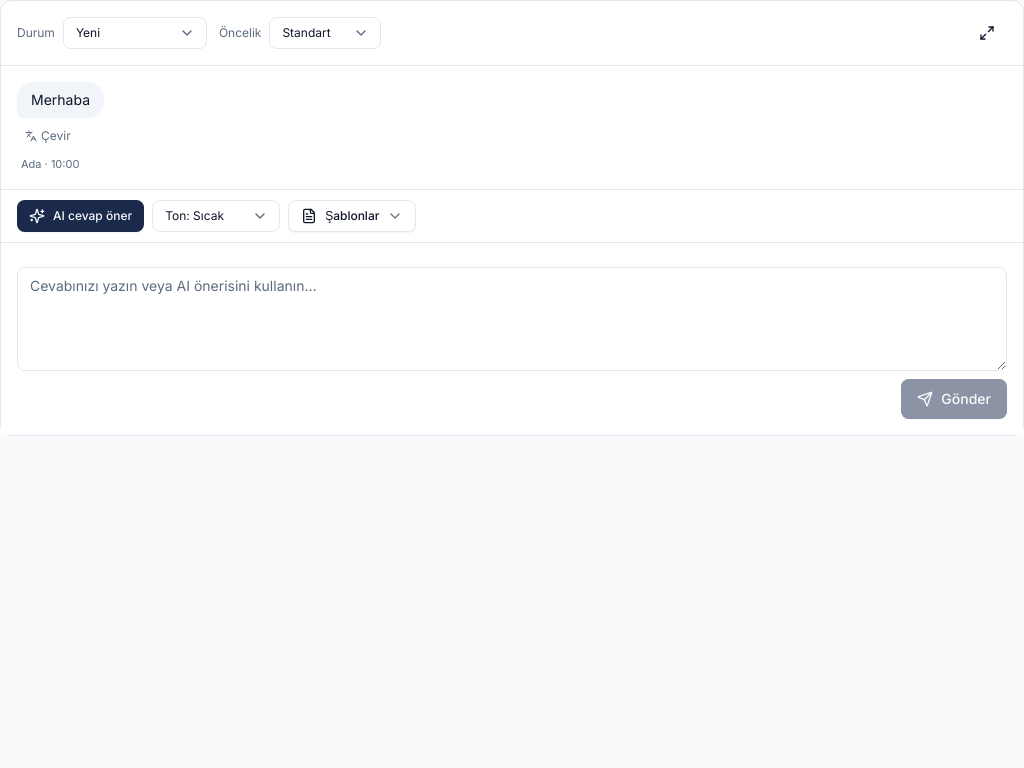
şablon seçici — sayfalı liste + seçilince tam metin › 🚨 liste yalnız önizleme gösterir; seçim TAM metni ayrı istekle alır ve değişkenleri doldurur
Click the button "Şablonlar".
click(352, 216)  # box top-left (288, 200), bottom-right (416, 232)
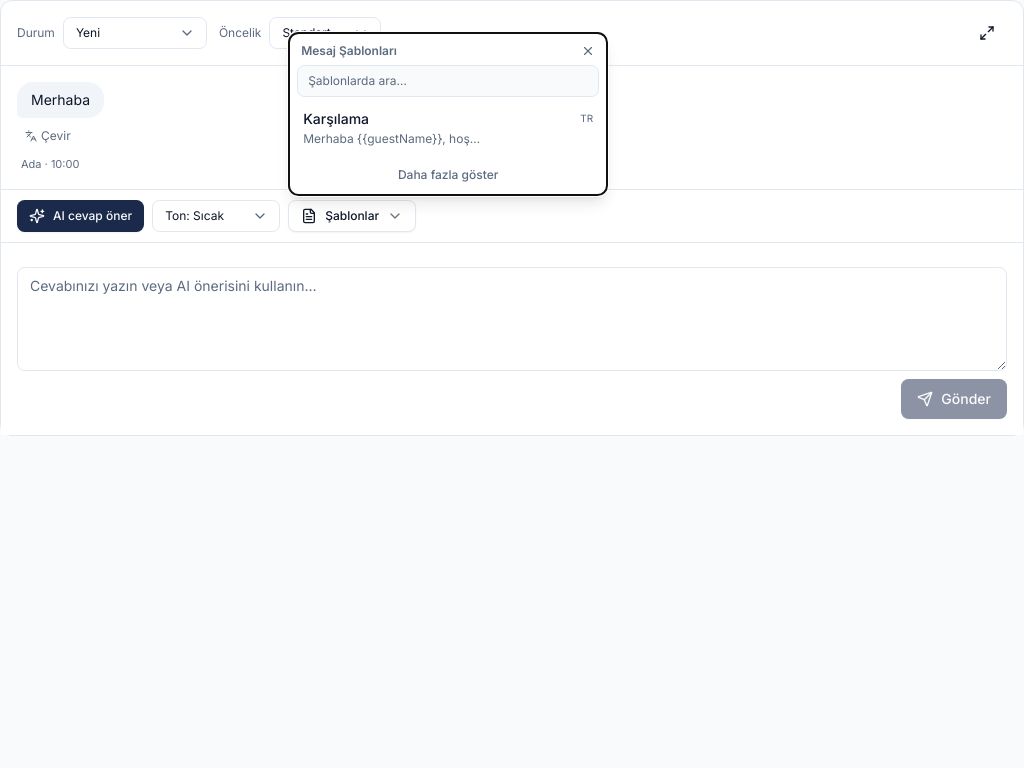
Expected: the dialog shows "Merhaba {{guestName}}, hoş…"
Click the button "Karşılama tr Merhaba {{guestName}}, hoş…".
click(448, 128)  # box top-left (293, 100), bottom-right (603, 154)
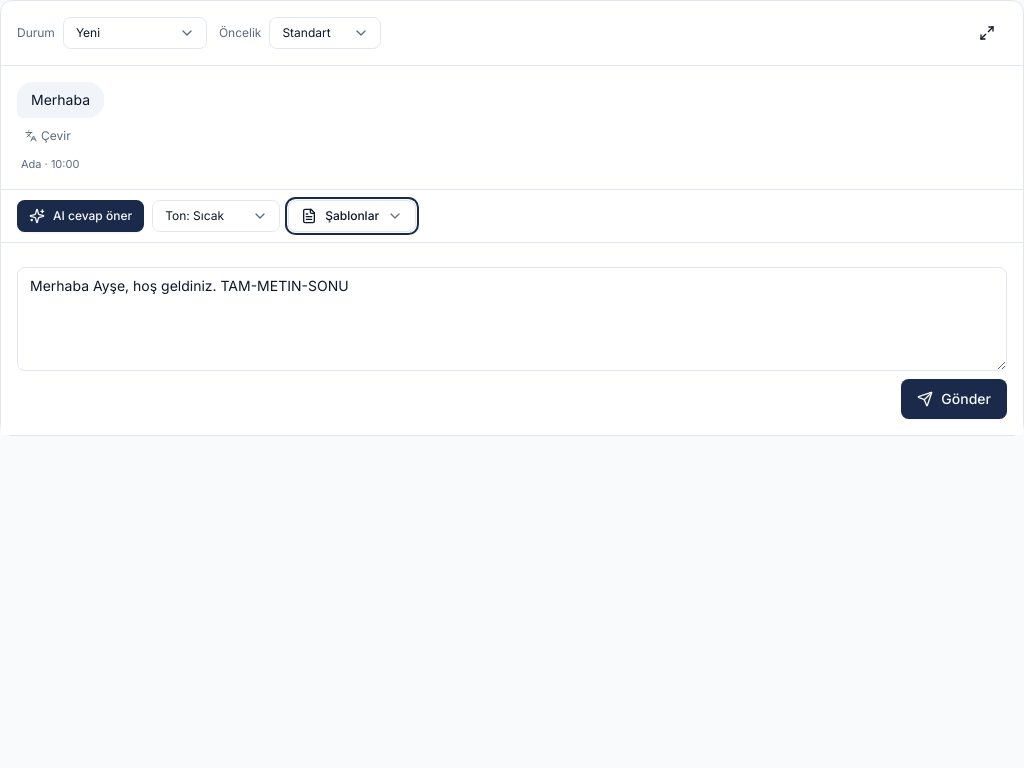
Expected: the text box named "Misafire cevabınız" holds "Merhaba Ayşe, hoş geldiniz. TAM-METIN-SONU", top-left (17, 266), bottom-right (1007, 370)
Expected: the dialog is gone
